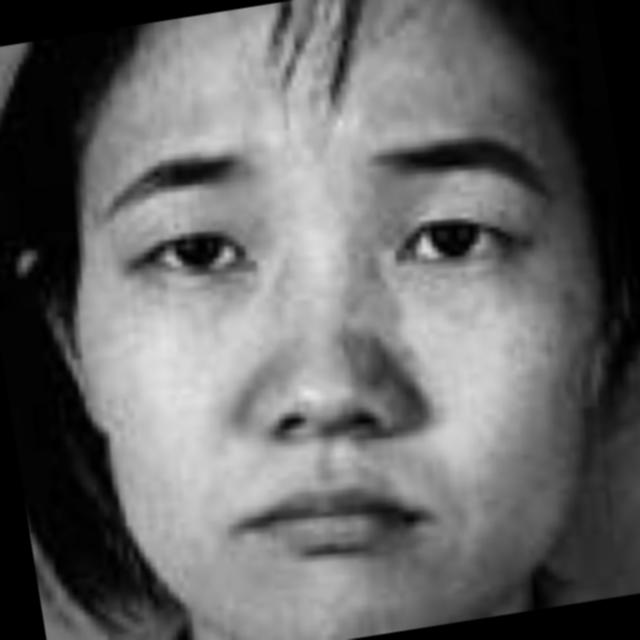sad: (33, 37, 612, 640)
